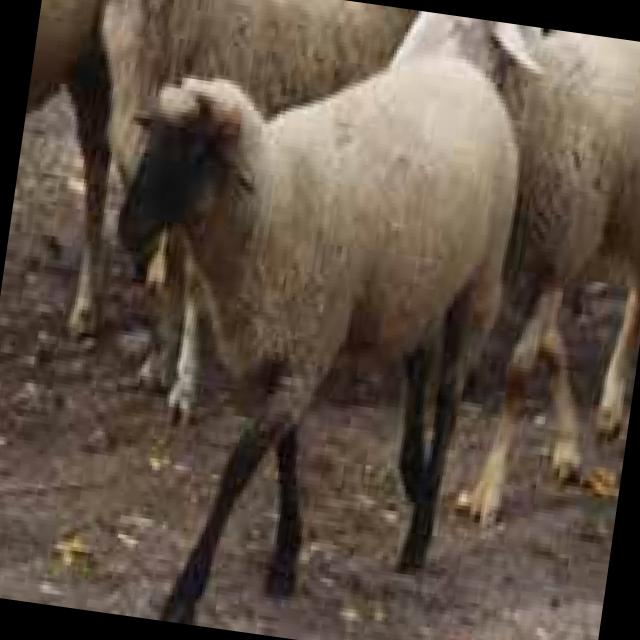sheep: (38, 8, 590, 614)
